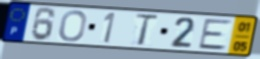1: (102, 12, 117, 45)
2: (169, 16, 197, 50)
6: (30, 6, 57, 42)
E: (196, 18, 235, 52)
O: (57, 9, 89, 43)
T: (134, 13, 160, 47)
